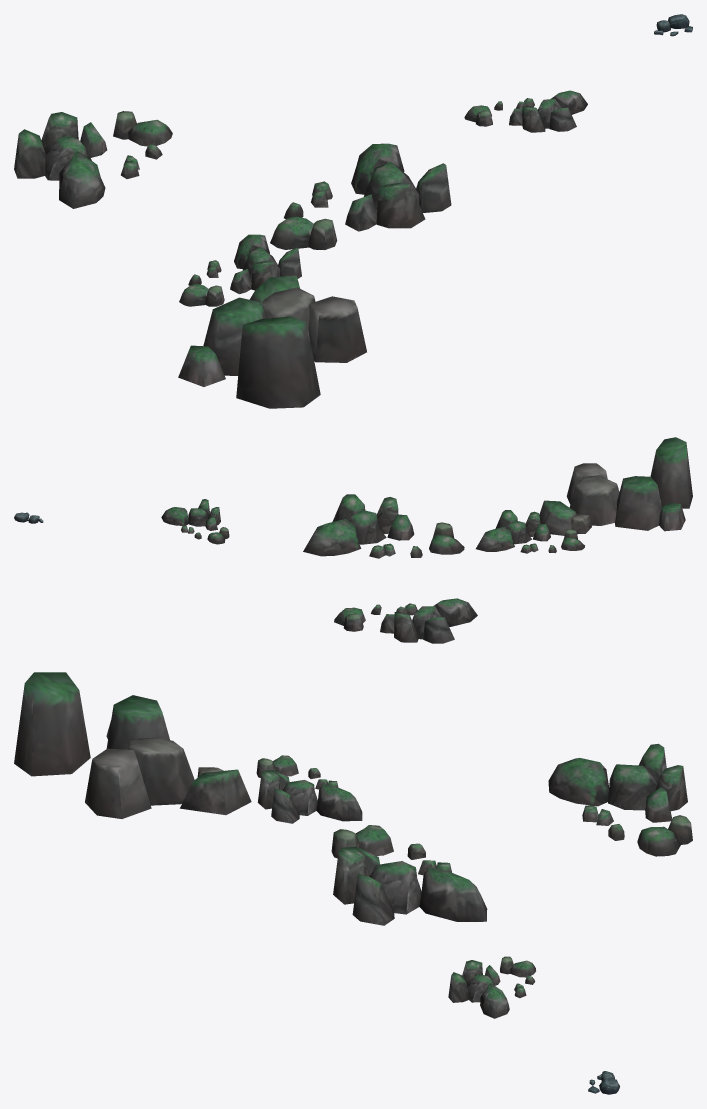
The model's file is Area_11_8.fbx.
The picture shows the model from 3 angles, top to bottom: view 1: azimuth 30°, elevation 25°; view 2: azimuth 150°, elevation 25°; view 3: azimuth 270°, elevation 25°; orthographic projection. The views are drawn at different scales.
Visible parts, largest first — view 1: Area_11_8; view 2: Area_11_8; view 3: Area_11_8.
Part boxes in pixels (bbox=[...]): Area_11_8: bbox=[14, 14, 692, 408]; Area_11_8: bbox=[14, 437, 692, 643]; Area_11_8: bbox=[14, 672, 692, 1094].
Size of the model in its own units: 5663 by 592 by 4410.
